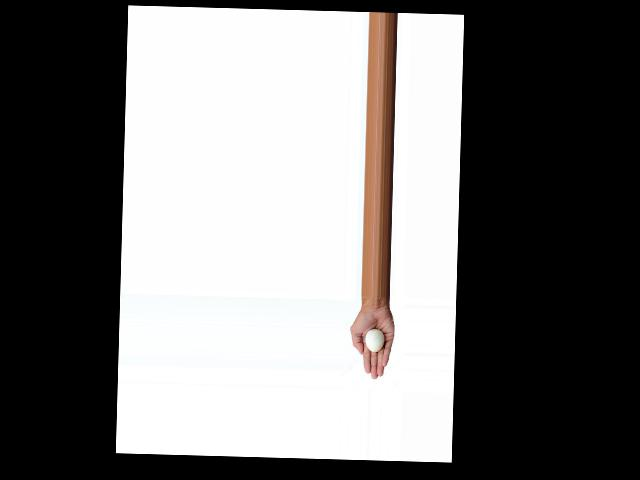egg: (365, 329, 384, 353)
